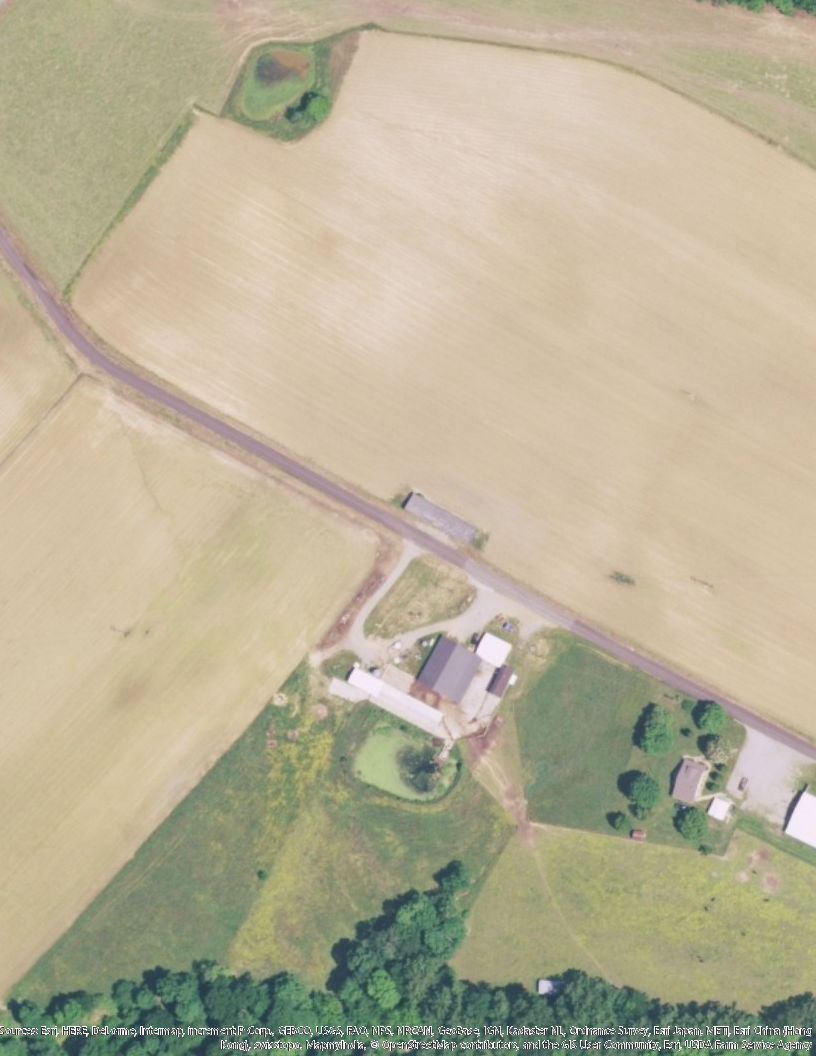cafo: (420, 621, 518, 726), (319, 659, 449, 736)
